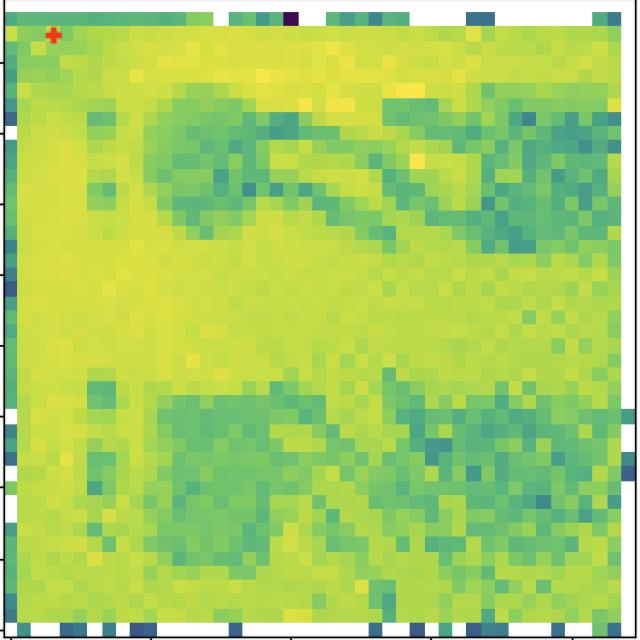Concrete: (154, 396, 291, 581)
Glass: (470, 75, 598, 264)
Metal: (135, 80, 272, 247)
Wood: (399, 401, 590, 574)
